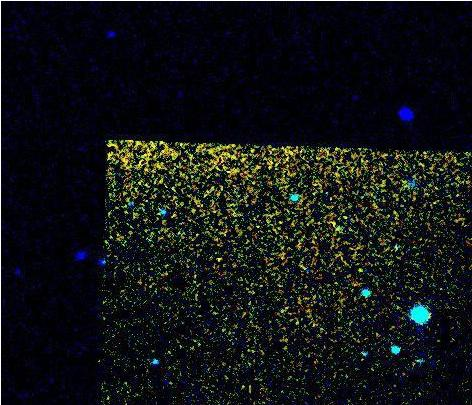star: (345, 256, 375, 286)
